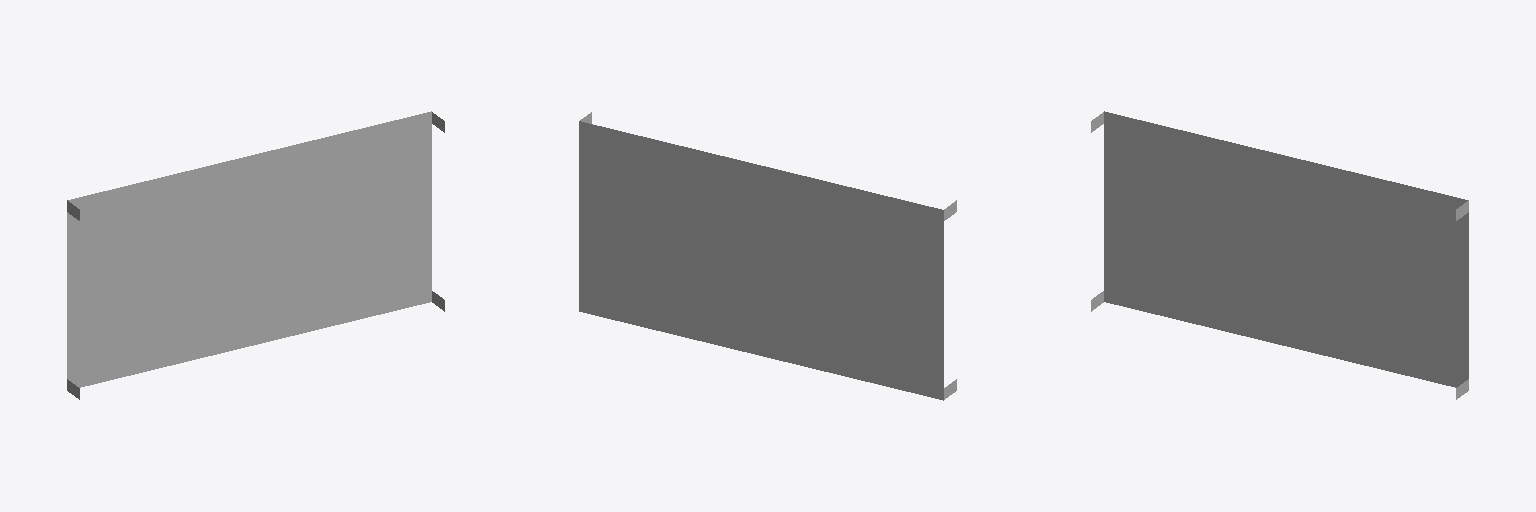
File: grade_janela_vovo.obj
3 views of the same model, side by side, from view 1: azimuth 30°, elevation 25°; view 2: azimuth 150°, elevation 25°; view 3: azimuth 330°, elevation 25° (orthographic).
Visible parts, largest first — view 1: Block, Block1; view 2: Block; view 3: Block, Block1.
Boxes of the visible parts, box(x1,y1,x2,y2) form: Block: box(67, 111, 431, 387); Block1: box(67, 112, 444, 399); Block: box(579, 121, 943, 400); Block: box(1104, 111, 1468, 387); Block1: box(1091, 112, 1468, 399).
Size of the model in its own units: 2 by 1 by 0.125.